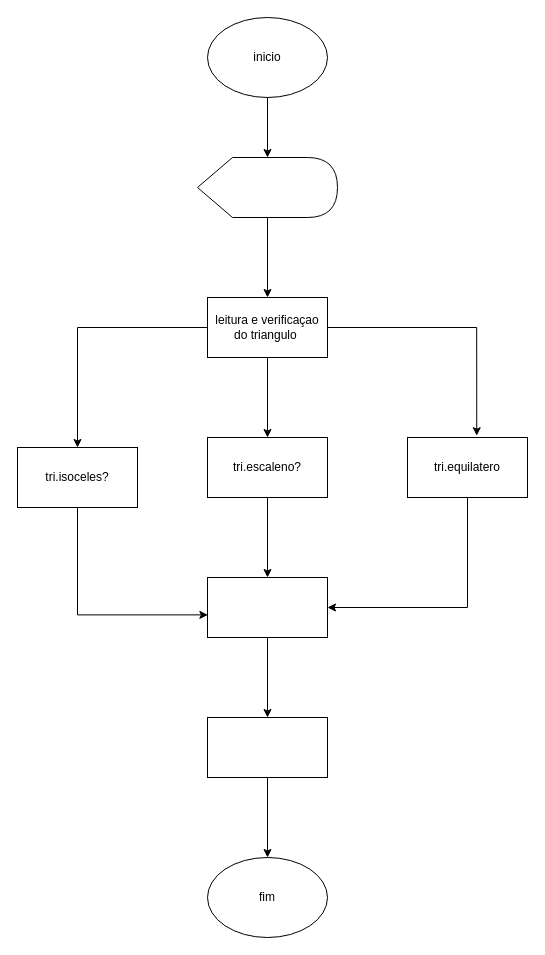
The diagram is 545 pixels wide and 955 high, and some of its shapes have lost their labels. Each missing label, with the box of its shape:
insira o triangulo: (196, 156, 338, 218)
resultado = x: (206, 716, 328, 778)
tri = x: (206, 576, 328, 638)
